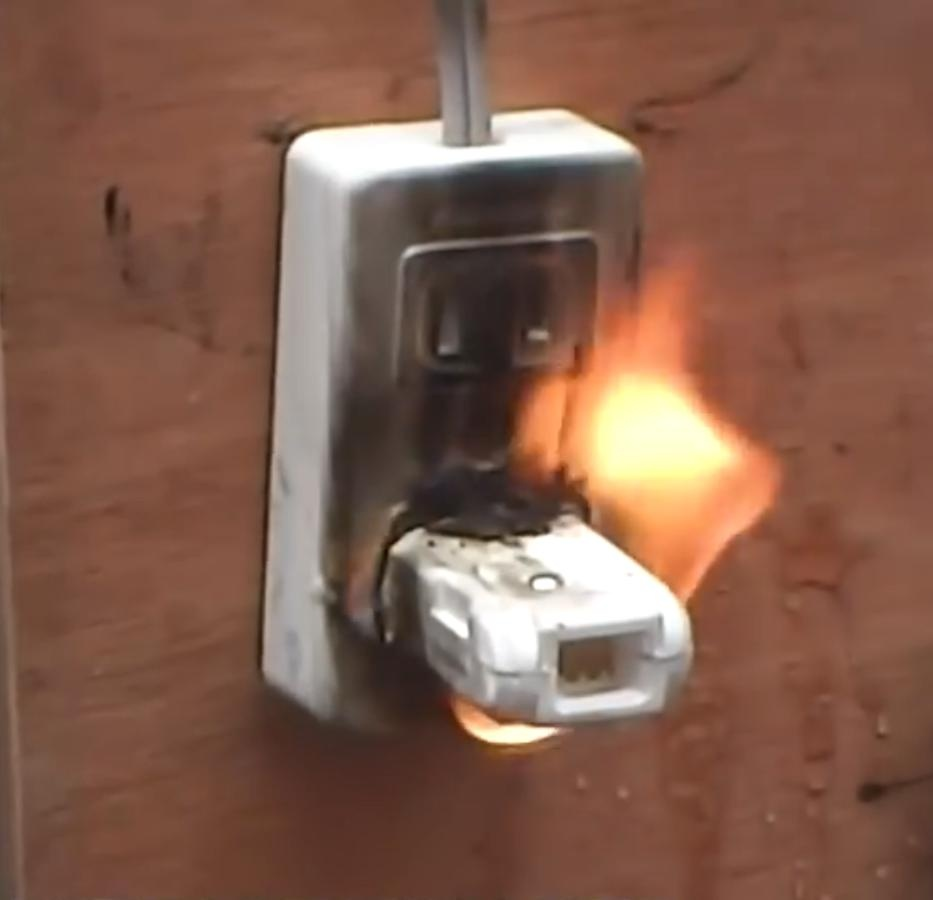fire: (444, 683, 564, 748)
